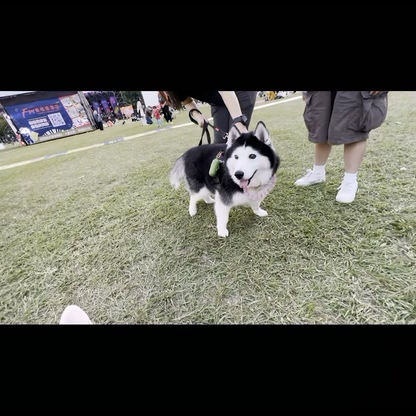husky: (168, 118, 283, 241)
